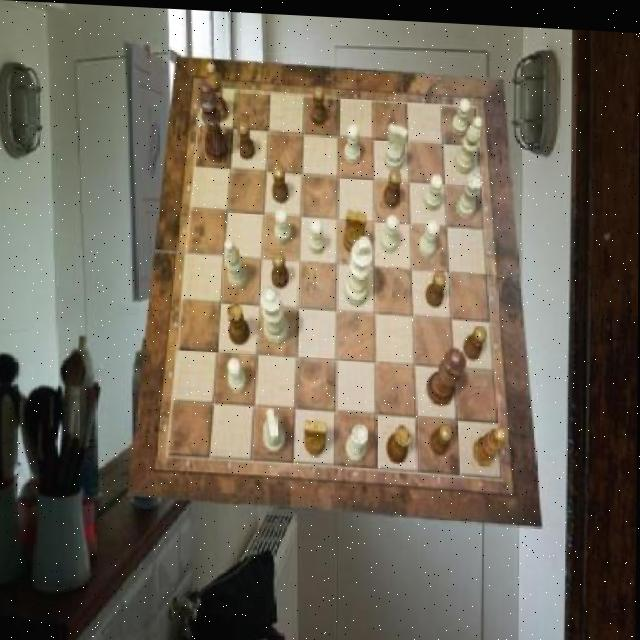bishop: (207, 61, 230, 122), (474, 422, 507, 464)
black-bishop: (199, 79, 231, 162)
black-king: (343, 205, 366, 251), (305, 417, 328, 454)
black-knight: (464, 319, 488, 356), (431, 416, 455, 451), (426, 267, 447, 304), (238, 117, 256, 157), (273, 162, 290, 201), (384, 165, 401, 204), (312, 84, 328, 124), (272, 250, 290, 285)
black-pawn: (427, 344, 467, 404)
black-queen: (228, 300, 251, 344), (388, 420, 412, 461)
black-rook: (454, 109, 482, 169), (224, 237, 249, 287)
white-bishop: (345, 233, 374, 303)
white-king: (385, 119, 408, 167), (264, 405, 286, 450)
white-knight: (419, 216, 439, 254), (452, 94, 471, 133), (423, 170, 443, 207), (345, 120, 362, 161), (380, 211, 398, 249), (227, 356, 246, 391), (276, 205, 293, 240), (309, 216, 326, 251)
white-pawn: (260, 281, 290, 341)
white-queen: (456, 168, 482, 215), (347, 419, 370, 457)
